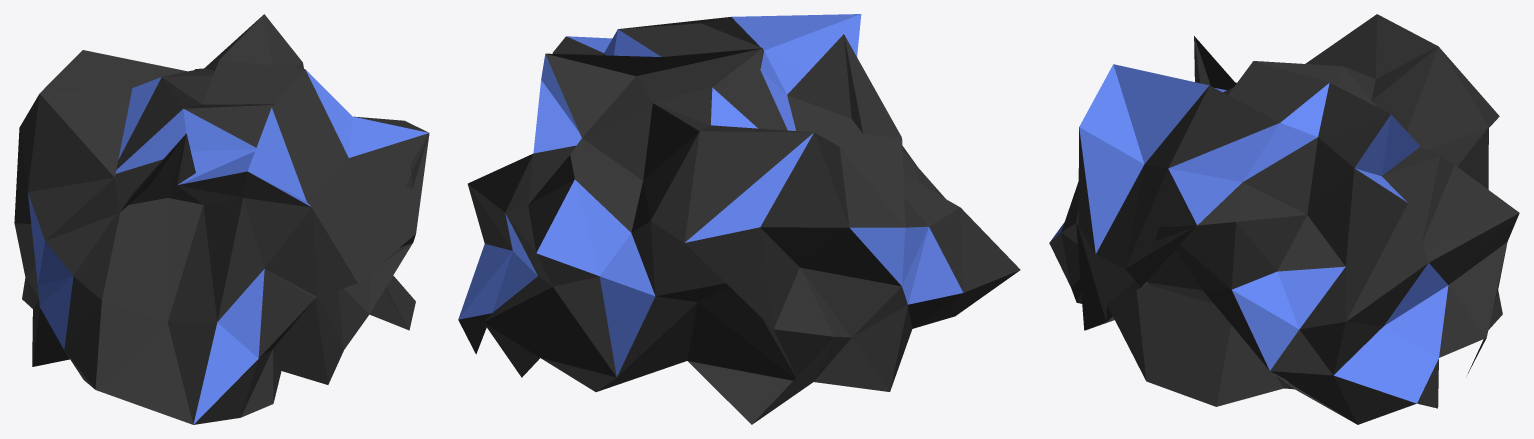
Rendered from Dest_PowerPlant_Belt_Thing.FBX.
The picture shows the model from 3 angles, left to right: view 1: azimuth 30°, elevation 25°; view 2: azimuth 150°, elevation 25°; view 3: azimuth 270°, elevation 25°; orthographic projection. The views are drawn at different scales.
Parts seen in each view (by area): view 1: GeoSphere001; view 2: GeoSphere001; view 3: GeoSphere001.
Boxes of the visible parts, left/top/right/bottom form: GeoSphere001: left=14, top=14, right=429, bottom=424; GeoSphere001: left=458, top=14, right=1020, bottom=424; GeoSphere001: left=1049, top=14, right=1519, bottom=424.
Size of the model in its own units: 25.84 by 16.86 by 25.88.
